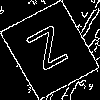Z: (25, 25, 76, 80)
